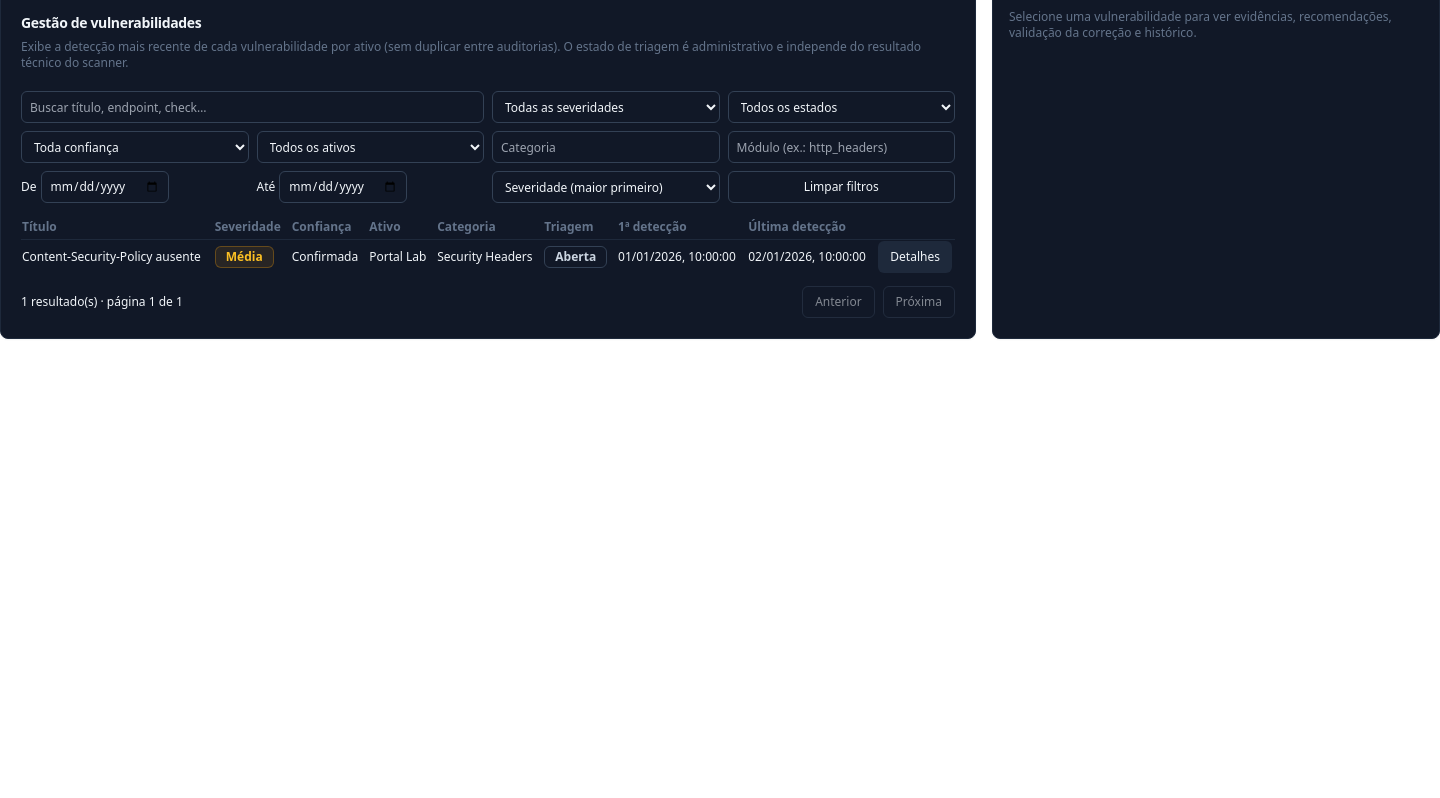
Test: Fase 4 — painéis (TM-016) › triagem: valida justificativa e persiste via PATCH para perfil autorizado
The image size is (1440, 798).
Click the button with aria-label "Ver detalhes de": (915, 257) [878,241,952,273]
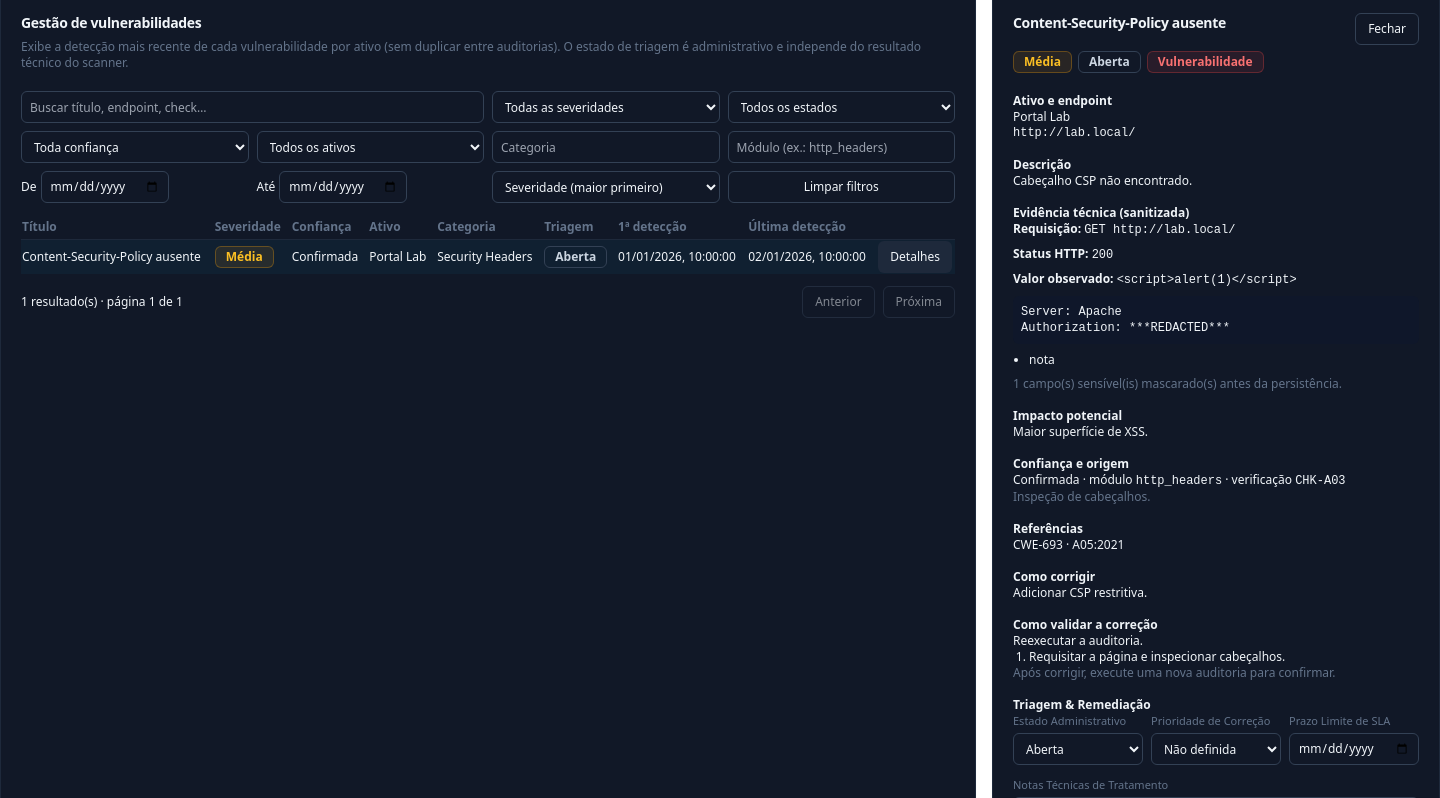
Select "Falso positivo" in the dropdown named "Estado de triagem": (1078, 749) [1013,733,1143,765]
(page scrolled)
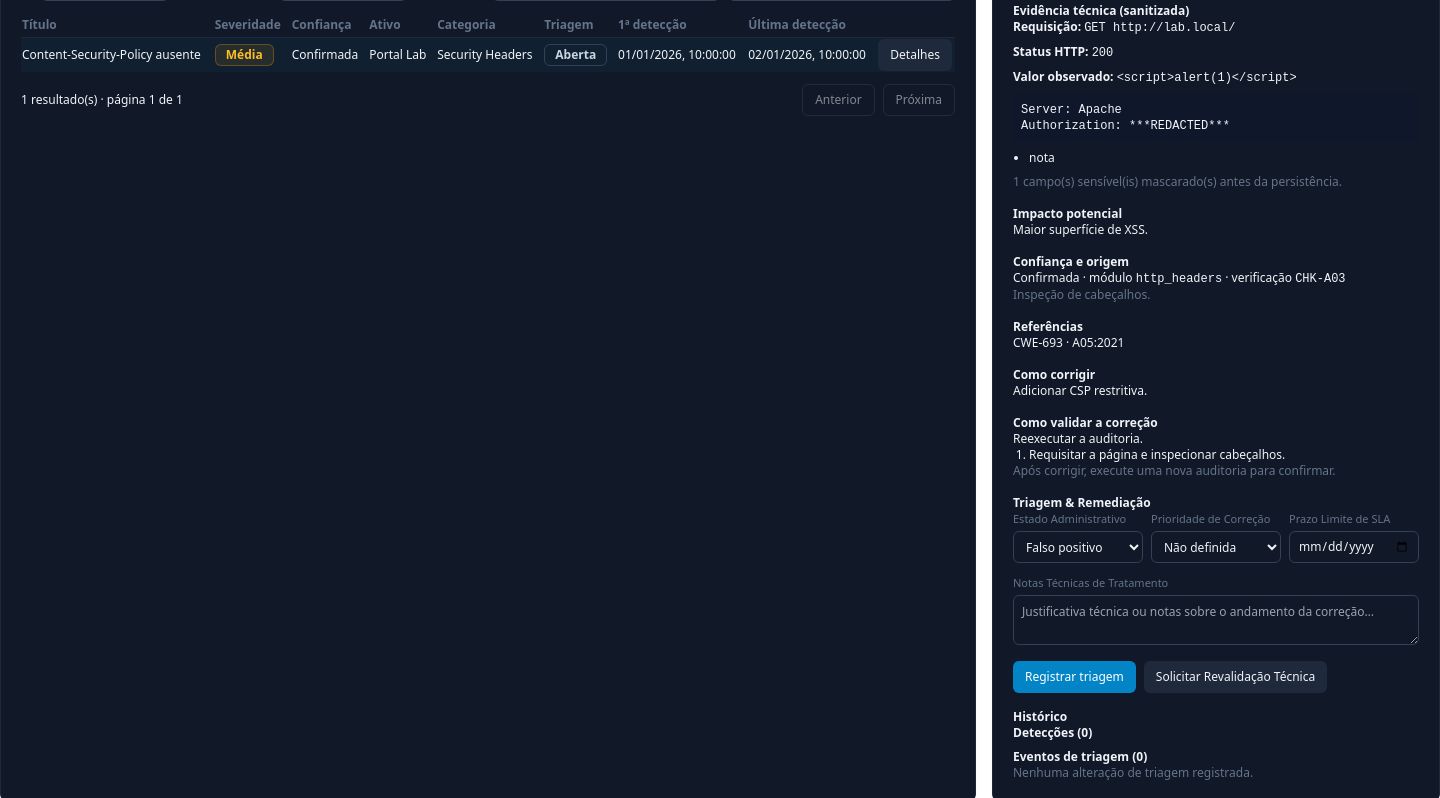
Click the button "Registrar triagem": (1074, 677) [1013,661,1136,693]
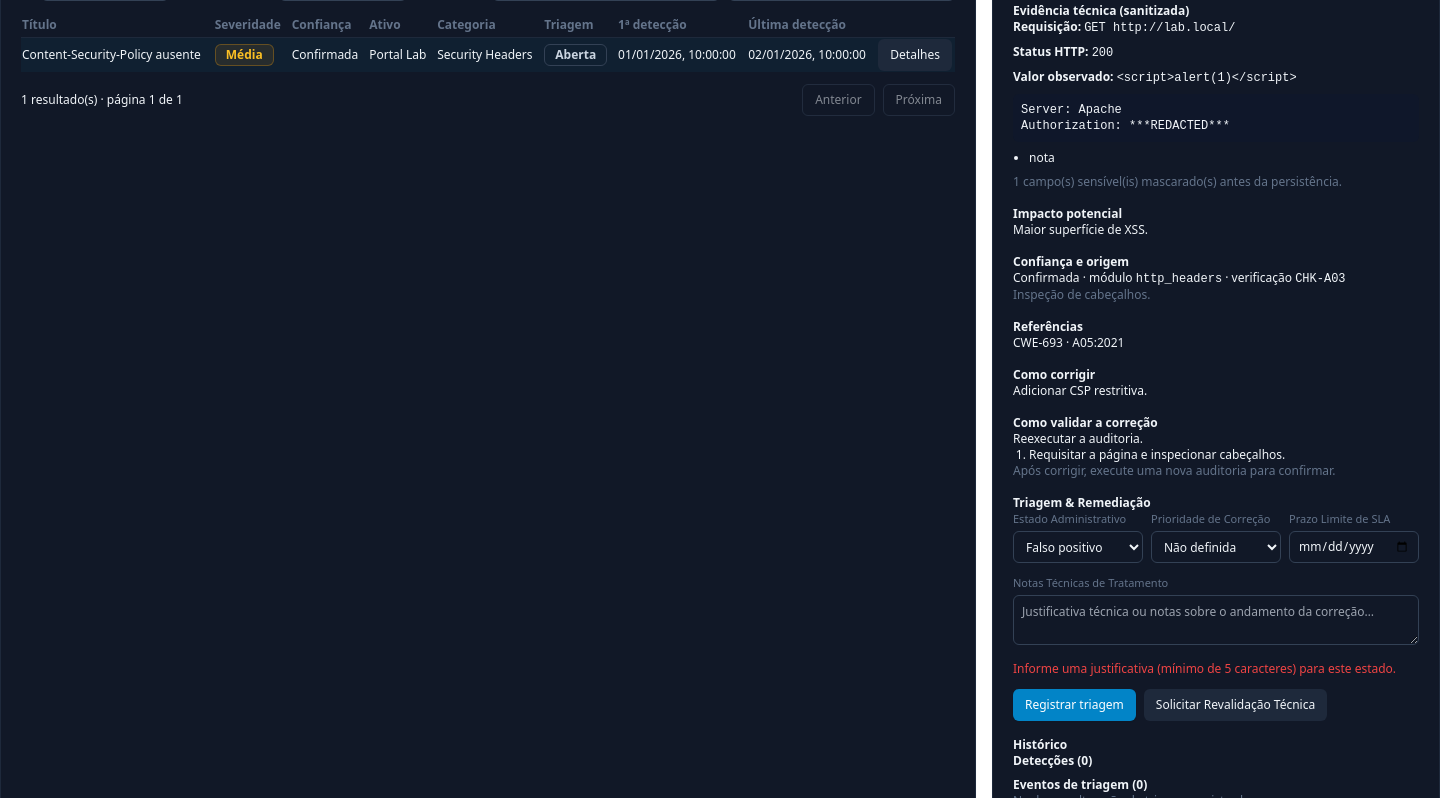
expect the text "Informe uma justificativa (mínimo de 5 caracteres) para este estado." is shown: met, box [1013,661,1419,677]
Replace the text in the text box named "Justificativa da triagem" with "Confirmado como FP": (1216, 620) [1013,595,1419,645]
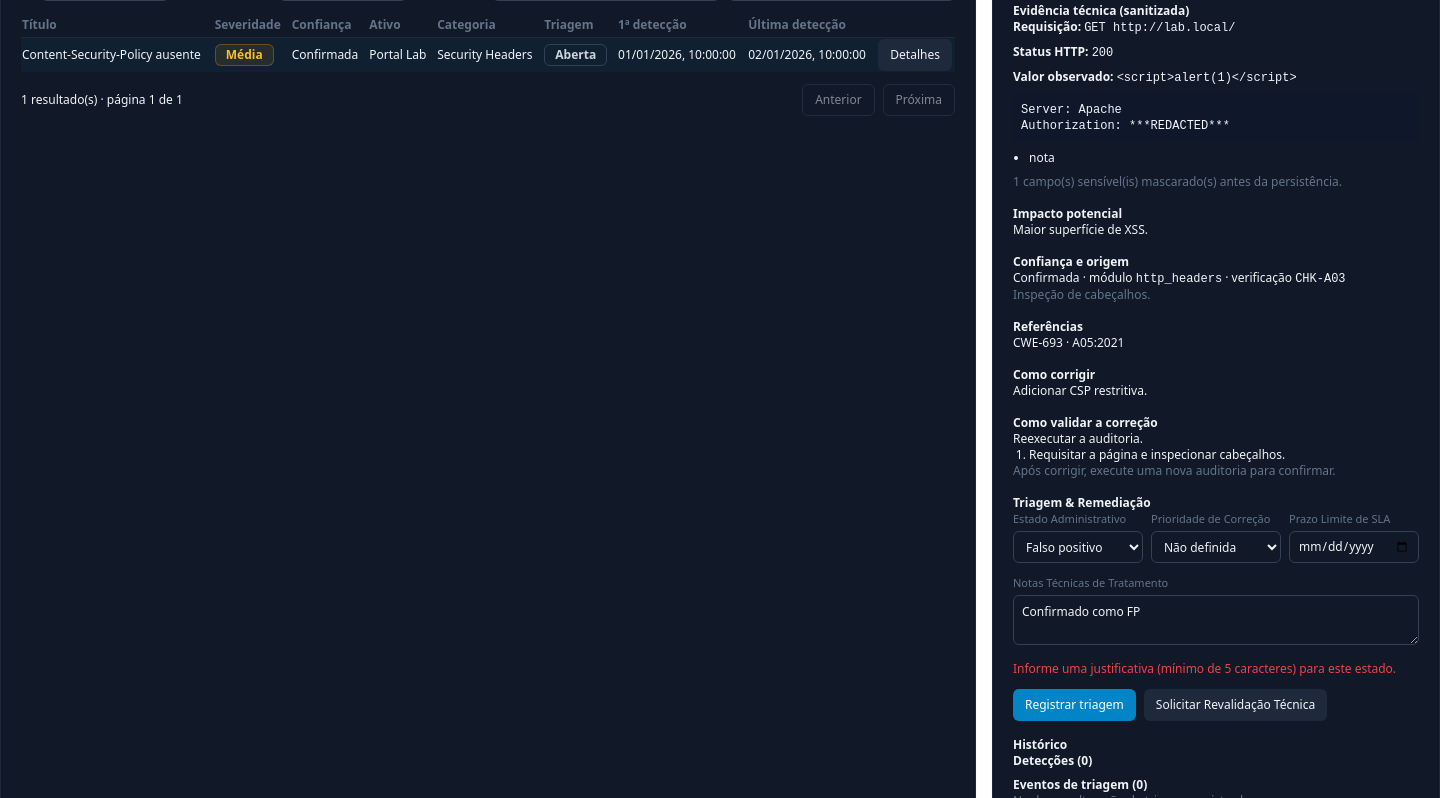
Click the button "Registrar triagem": (1074, 705) [1013,689,1136,721]
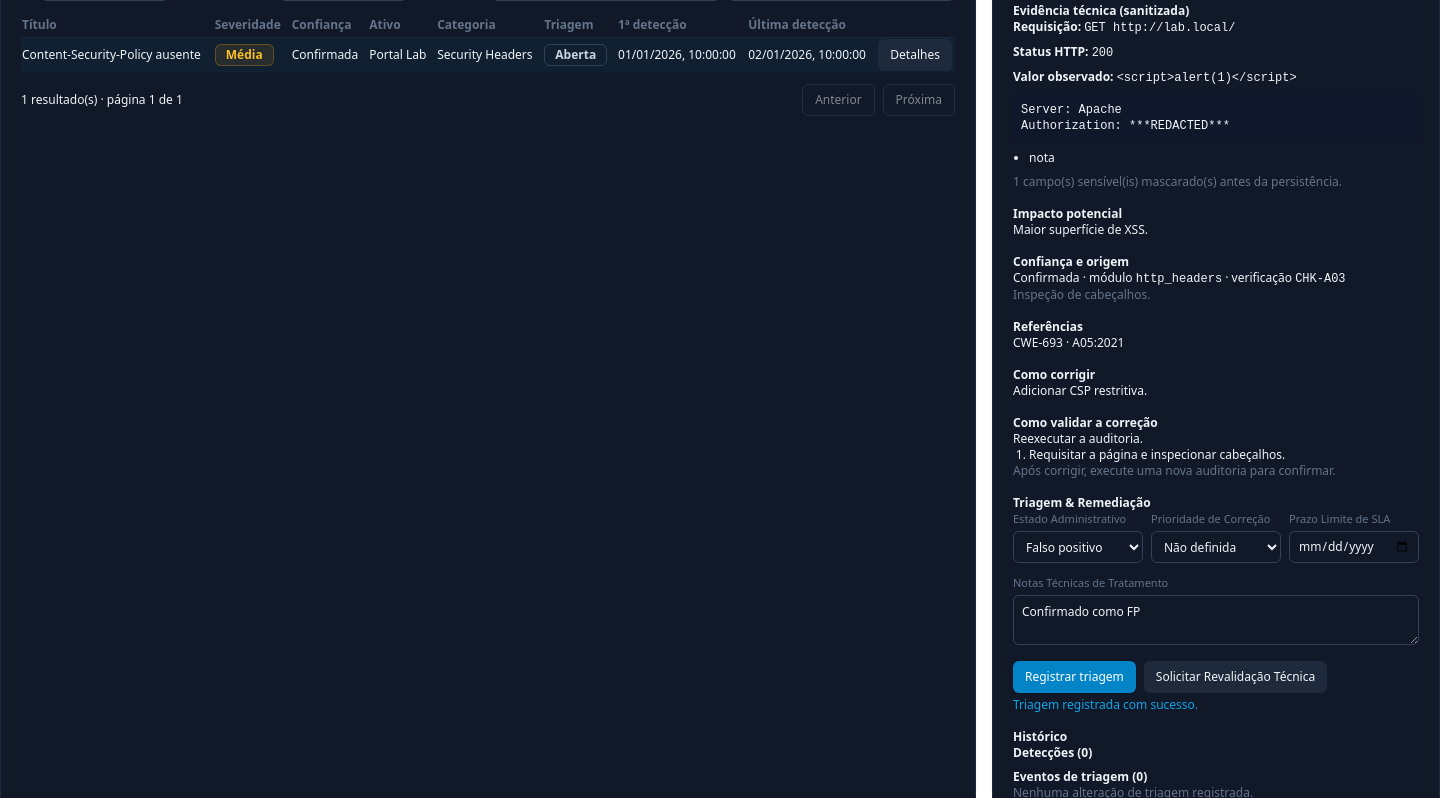
expect the text "Triagem registrada com sucesso." is shown: met, box [1013,696,1198,713]
